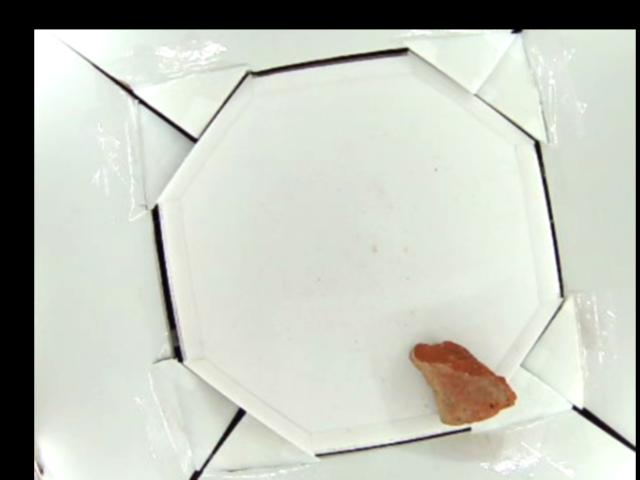Brisk: (412, 340, 518, 425)
